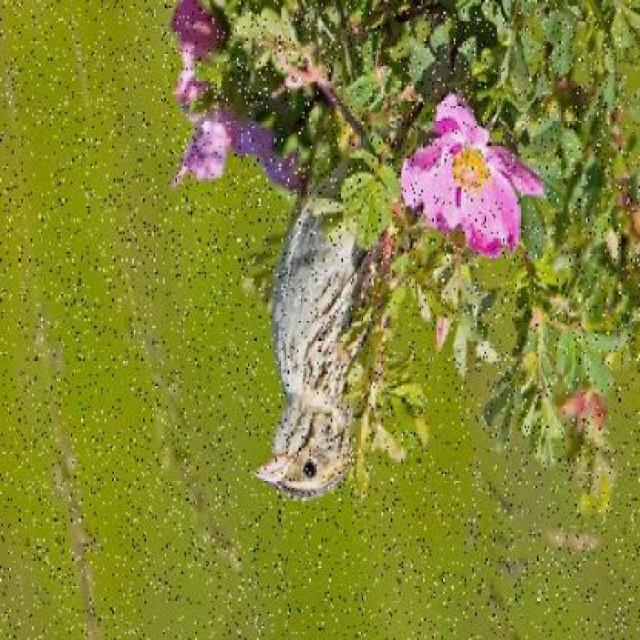Bird: (251, 138, 392, 499)
